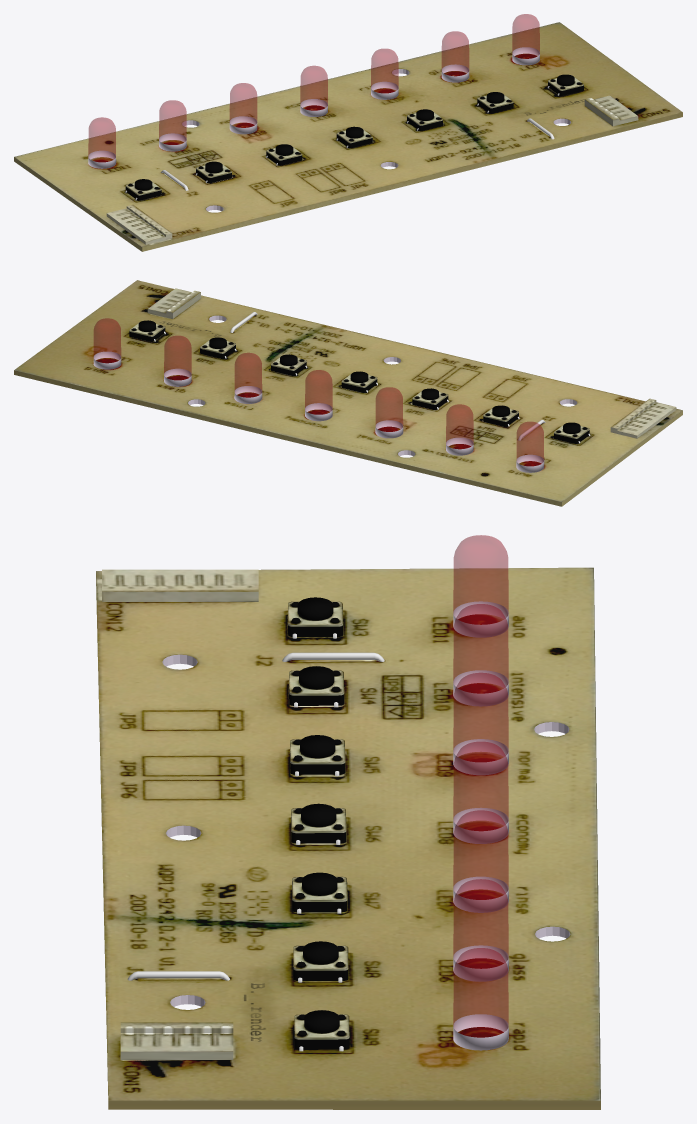
Rendered from leds_and_buttons_2mb.glb.
The picture shows the model from 3 angles, top to bottom: view 1: azimuth 30°, elevation 25°; view 2: azimuth 150°, elevation 25°; view 3: azimuth 270°, elevation 25°; orthographic projection. The views are drawn at different scales.
Parts seen in each view (by area): view 1: Button board_0; view 2: Button board_0; view 3: Button board_0.
Part boxes in pixels (<box>): Button board_0: <box>14,14,682,251</box>; Button board_0: <box>14,280,682,506</box>; Button board_0: <box>96,535,600,1109</box>.
Bounding box in the file's own units: 0.1397 × 0.0124 × 0.0559.
5 materials, 1 textured.
